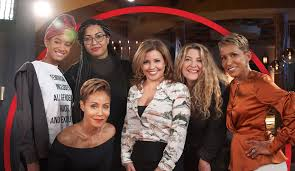white_female: (127, 39, 173, 85)
